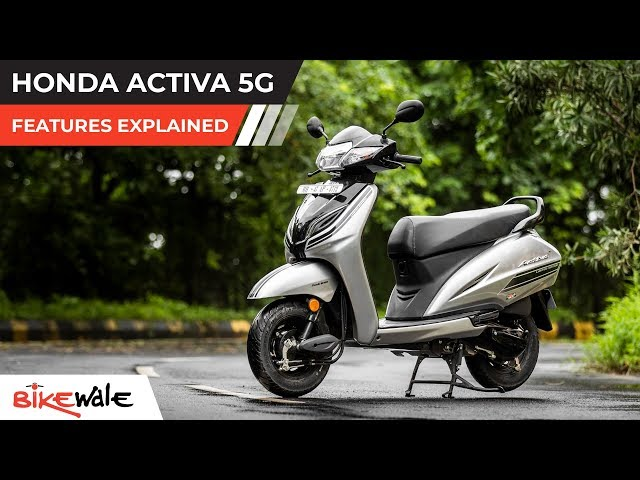Bike: (243, 139, 562, 394)
